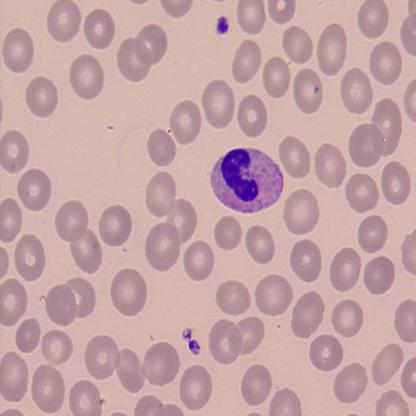Band Neutrophil: (207, 143, 287, 216)
